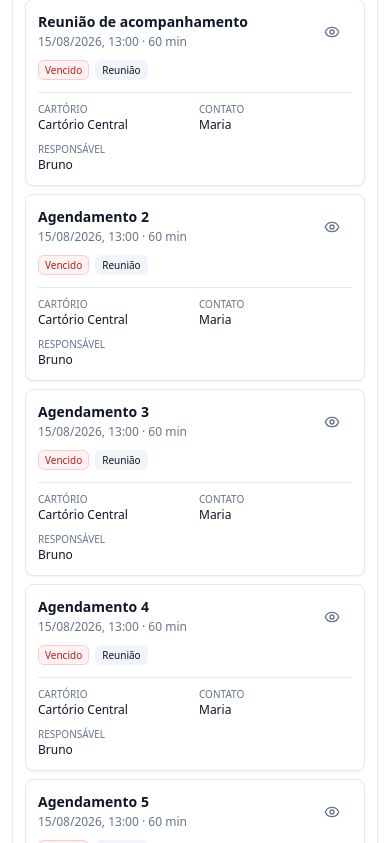
it: CS/CX contatos e agendamentos — permissões › exibe uma nota legada simples no diálogo somente leitura
This screenshot has width=390, height=843.
(page scrolled)
Click the button named "Visualizar observações de Agendamento 3" at (332, 422), box x1=312 y1=402 x2=352 y2=442
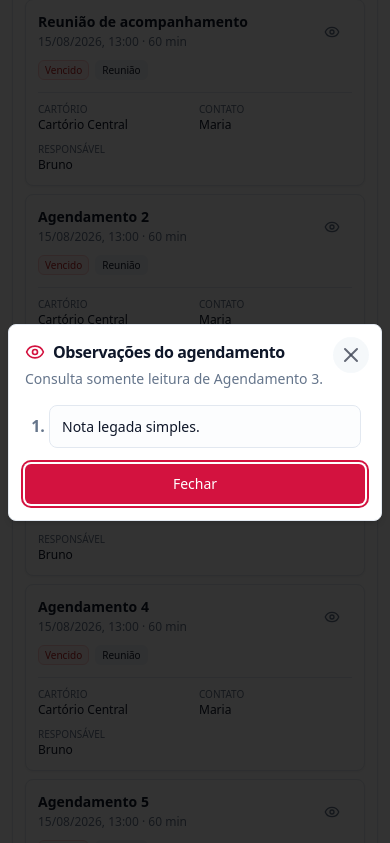
Now the dialog shows "Nota legada simples.", box x1=62 y1=416 x2=200 y2=436
